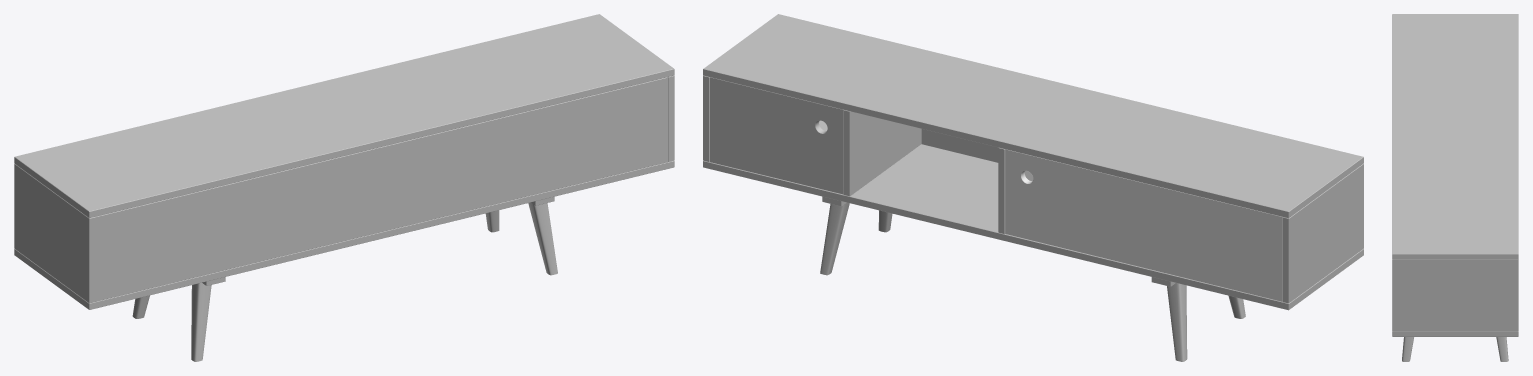
File: mueble_tv.obj
3 views of the same model, side by side, from view 1: azimuth 30°, elevation 25°; view 2: azimuth 150°, elevation 25°; view 3: azimuth 270°, elevation 25° (orthographic). The views are drawn at different scales.
Parts seen in each view (by area): view 1: ANDERSEN_TV_VINTAGE_MEUBEL; view 2: ANDERSEN_TV_VINTAGE_MEUBEL; view 3: ANDERSEN_TV_VINTAGE_MEUBEL.
Part boxes in pixels (<box>): ANDERSEN_TV_VINTAGE_MEUBEL: <box>14,14,674,361</box>; ANDERSEN_TV_VINTAGE_MEUBEL: <box>703,14,1363,361</box>; ANDERSEN_TV_VINTAGE_MEUBEL: <box>1392,14,1518,361</box>.
Size of the model in its own units: 18 by 5.35 by 4.
